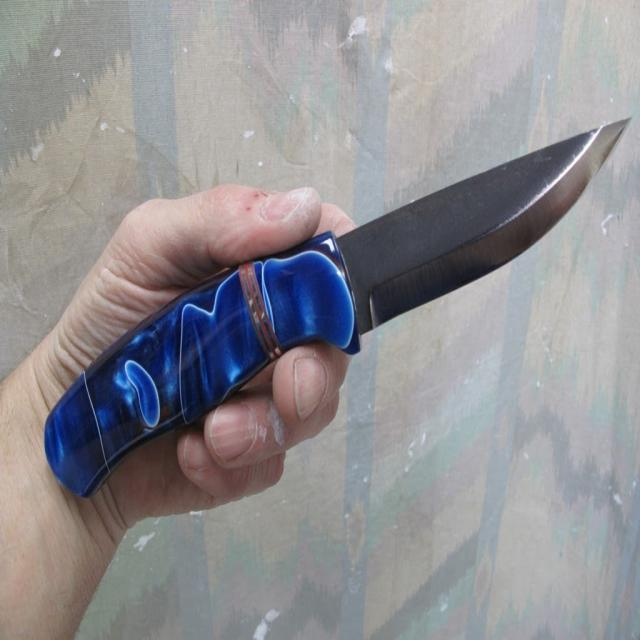knife: (45, 116, 638, 505)
